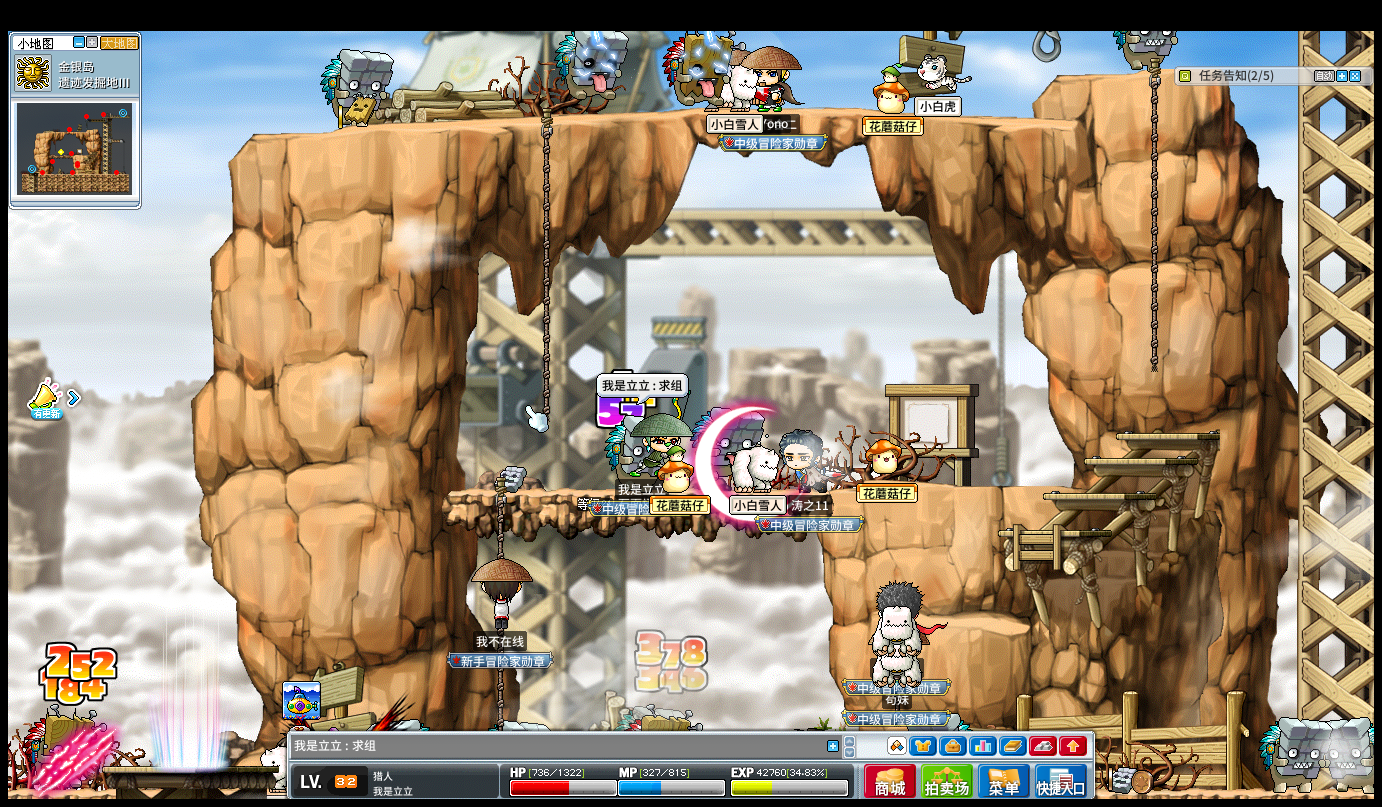floor: (227, 102, 1086, 137), (444, 487, 819, 498), (930, 612, 1028, 634), (924, 483, 1080, 493), (1055, 69, 1172, 82), (1115, 429, 1221, 441), (1076, 456, 1196, 465), (996, 528, 1110, 536), (1044, 492, 1157, 500)
monster: (553, 27, 632, 115), (24, 710, 102, 787), (320, 48, 394, 129), (660, 26, 725, 111), (1259, 717, 1323, 792), (1326, 716, 1377, 792), (1118, 27, 1175, 74)
rope: (1147, 57, 1161, 375), (539, 104, 551, 426), (492, 481, 506, 559), (495, 667, 504, 724)
